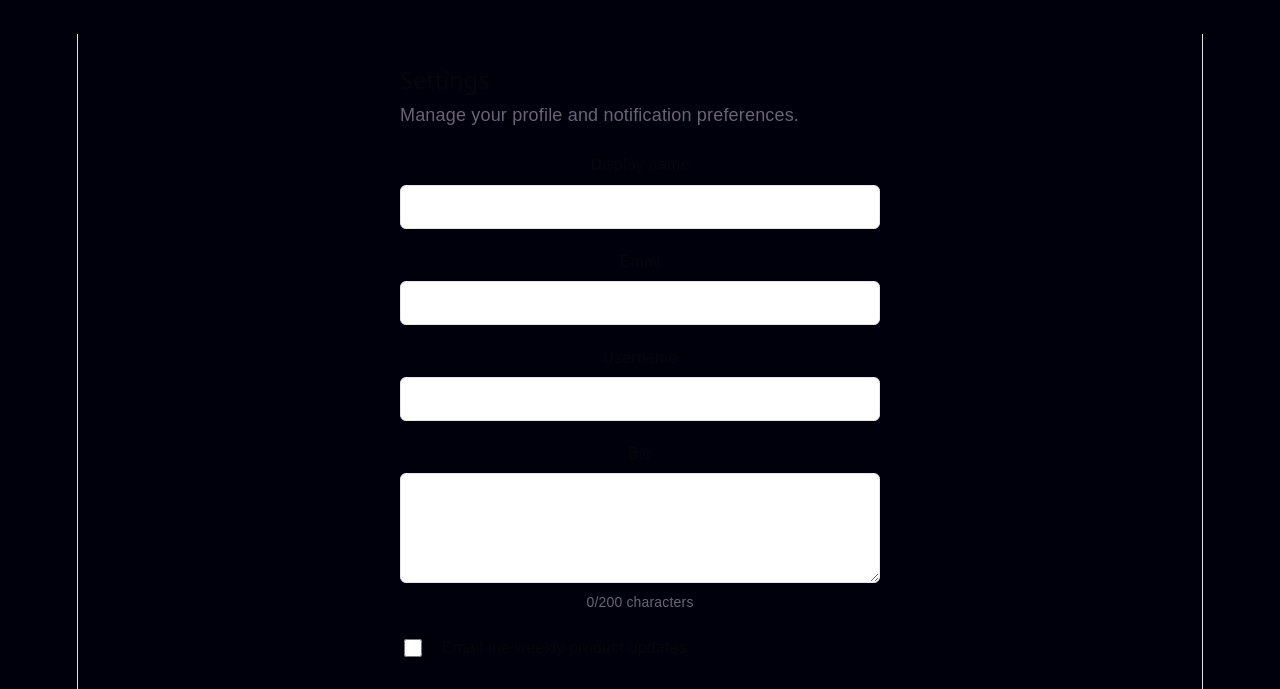
SettingsForm › reset clears the form, success message, and saved localStorage data
Type "Jane Doe" into the field labelled "Display name" at [640, 206], box [400,184,880,228]
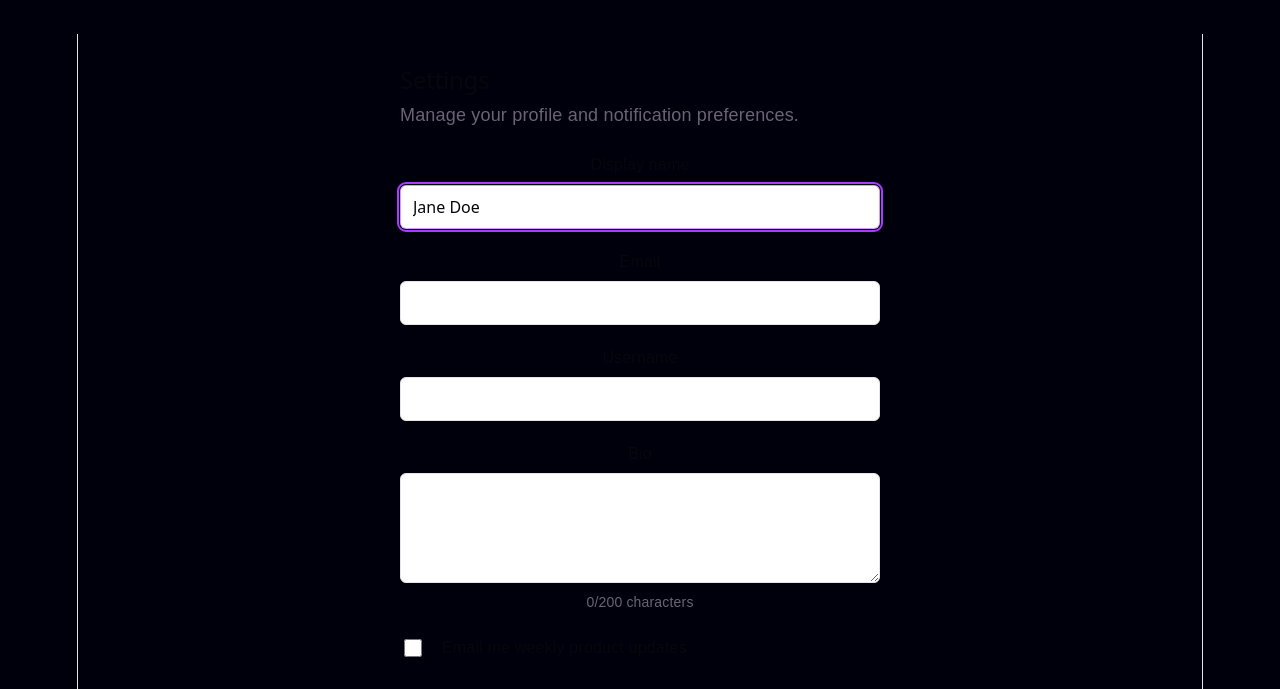
Type "jane@example.com" into the field labelled "Email" at [640, 303], box [400,281,880,325]
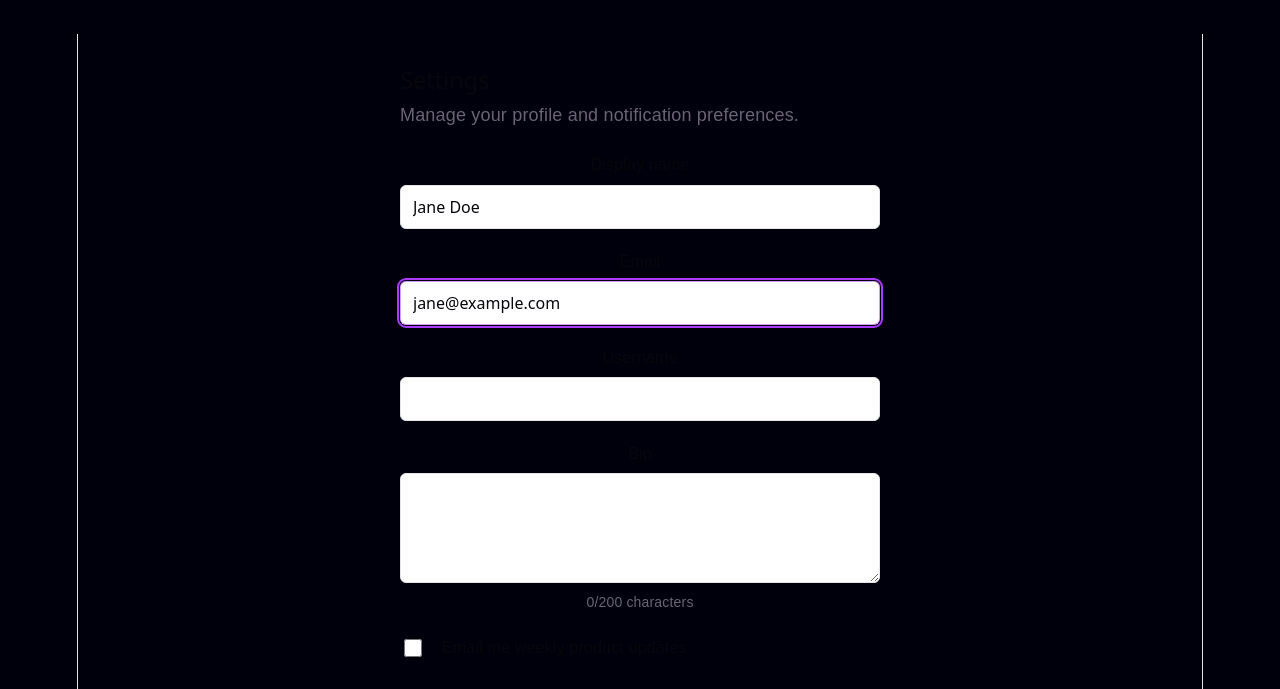
Type "jane_doe" into the field labelled "Username" at [640, 399], box [400,377,880,421]
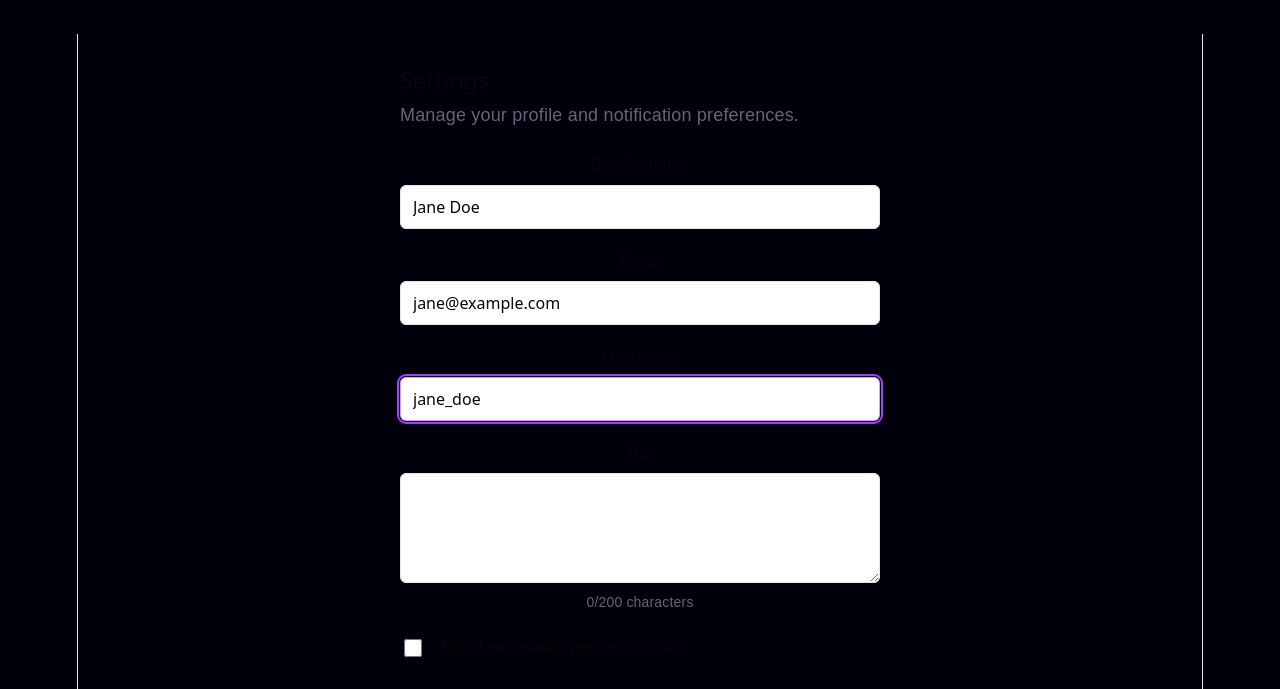
Type "Hello world" into the text box labelled "Bio" at [640, 528], box [400,473,880,583]
(page scrolled)
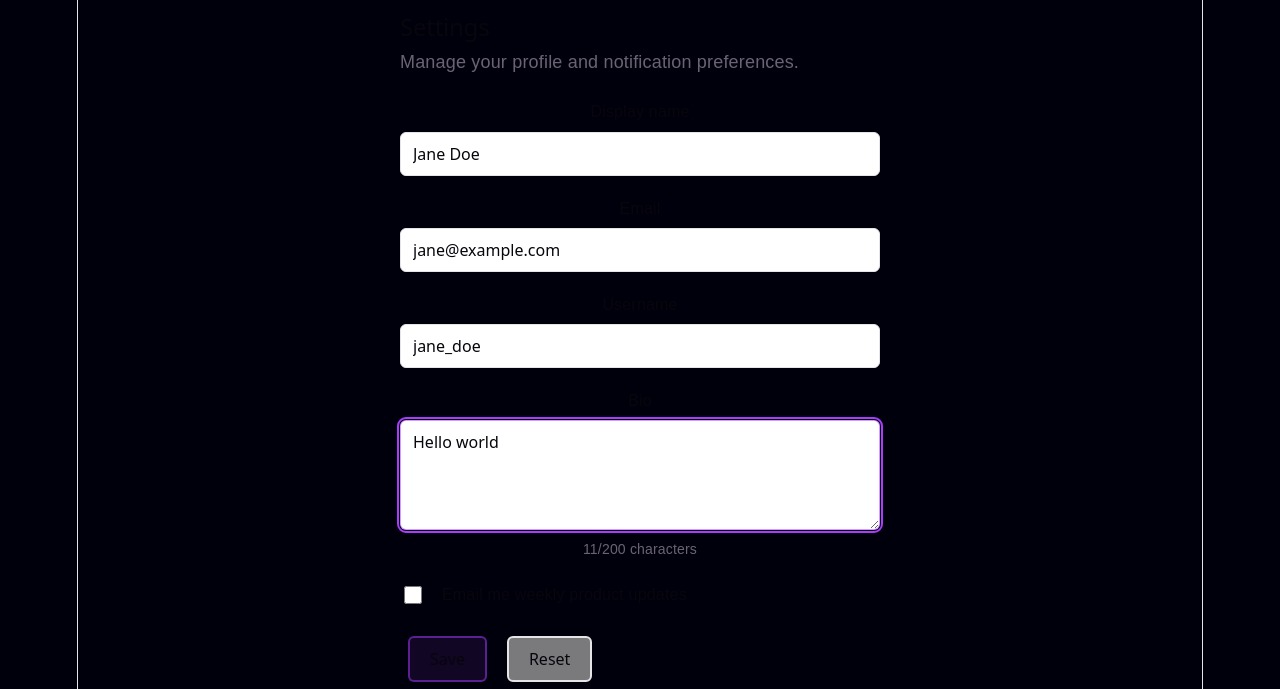
Click the button "Save" at [447, 659], box [408,636,487,682]
(page scrolled)
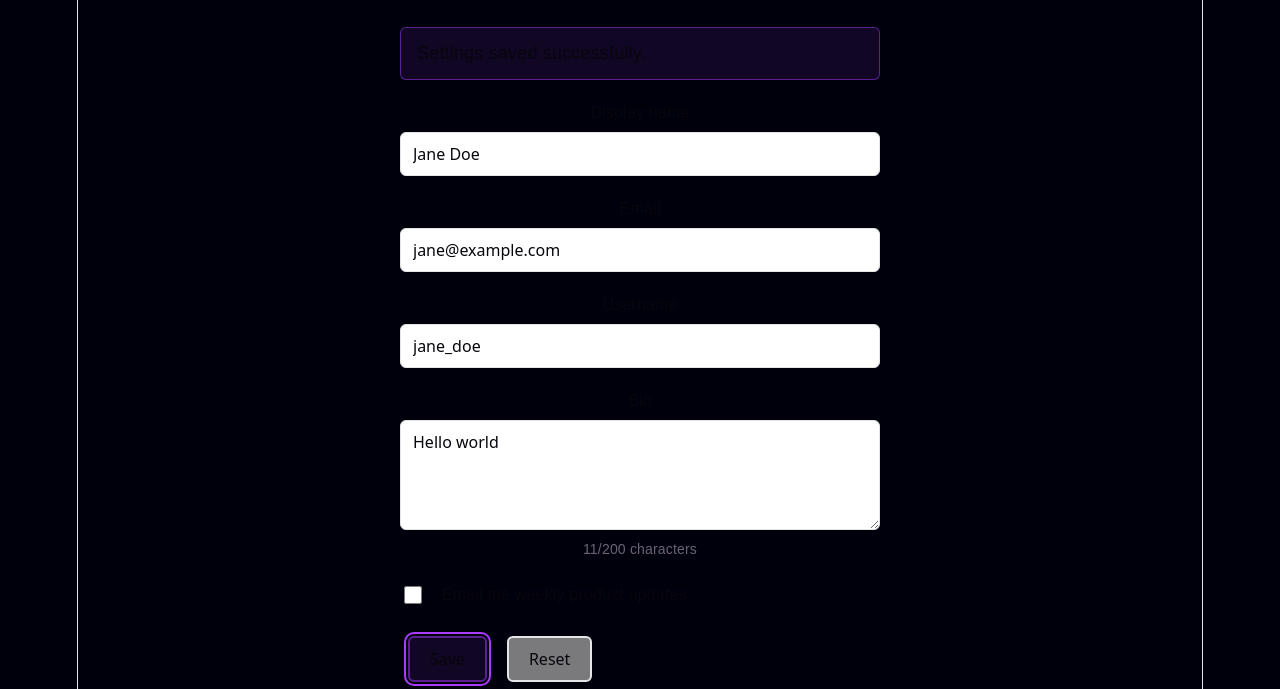
Expected: the text "Settings saved successfully." is shown, [400,27,880,80]
Click the button "Reset" at [550, 659], box [507,636,592,682]
(page scrolled)
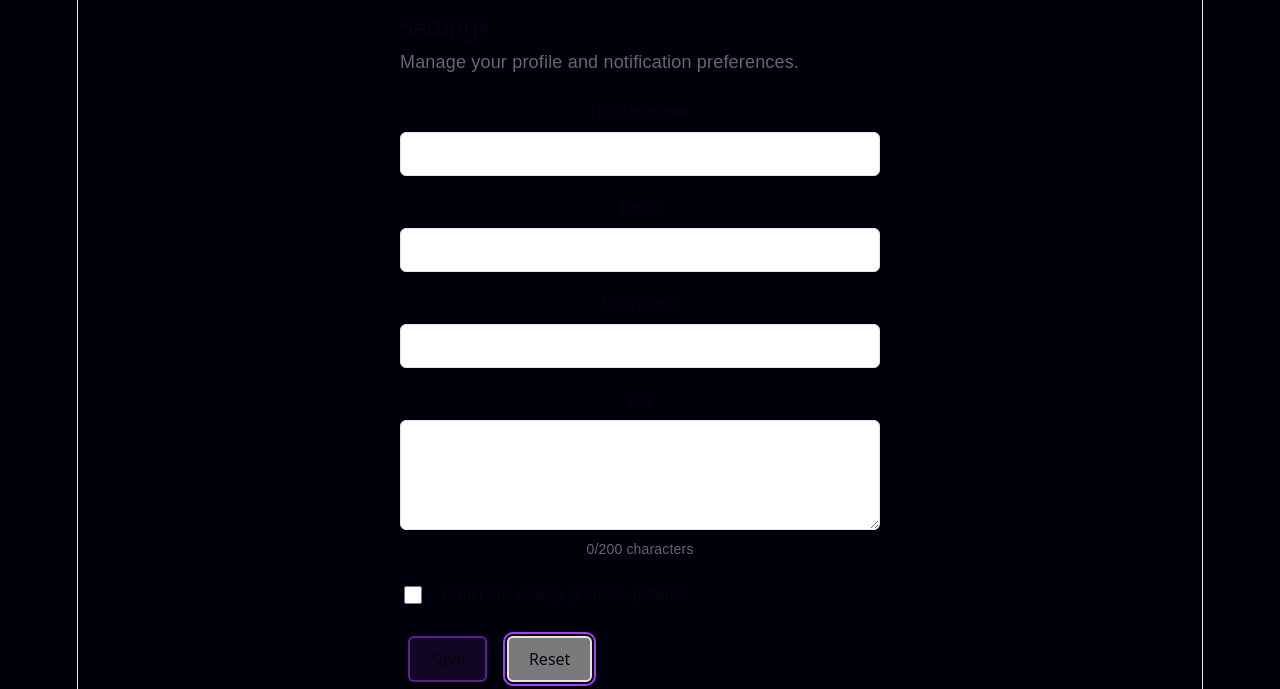
Expected: the field labelled "Display name" is empty, [400,132,880,176]
Expected: the field labelled "Email" is empty, [400,228,880,272]
Expected: the field labelled "Username" is empty, [400,324,880,368]
